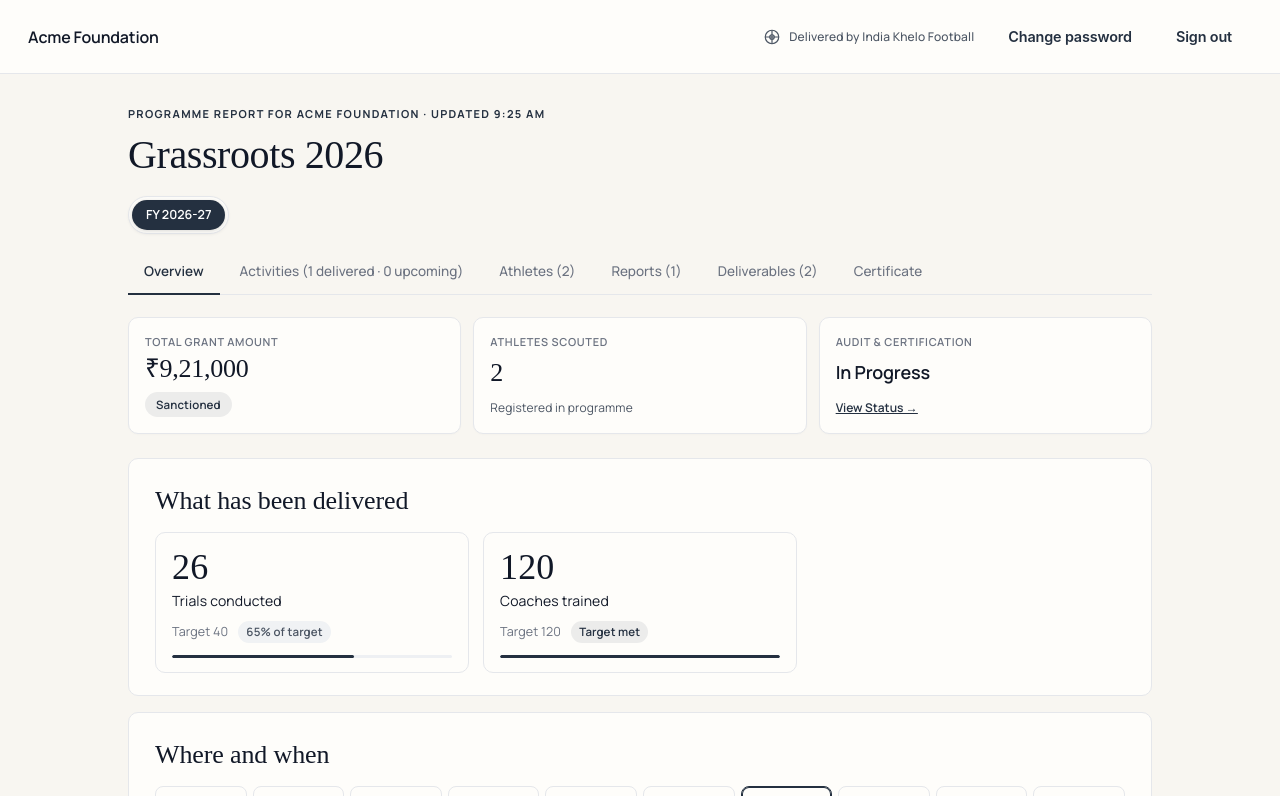
Test: the Athletes tab shows scouted beneficiaries and search works
Check: the heading "What has been delivered" is shown, box top-left (155, 486), bottom-right (408, 515)
Click the tab "Athletes (2)".
click(537, 272)  # box top-left (483, 250), bottom-right (592, 295)
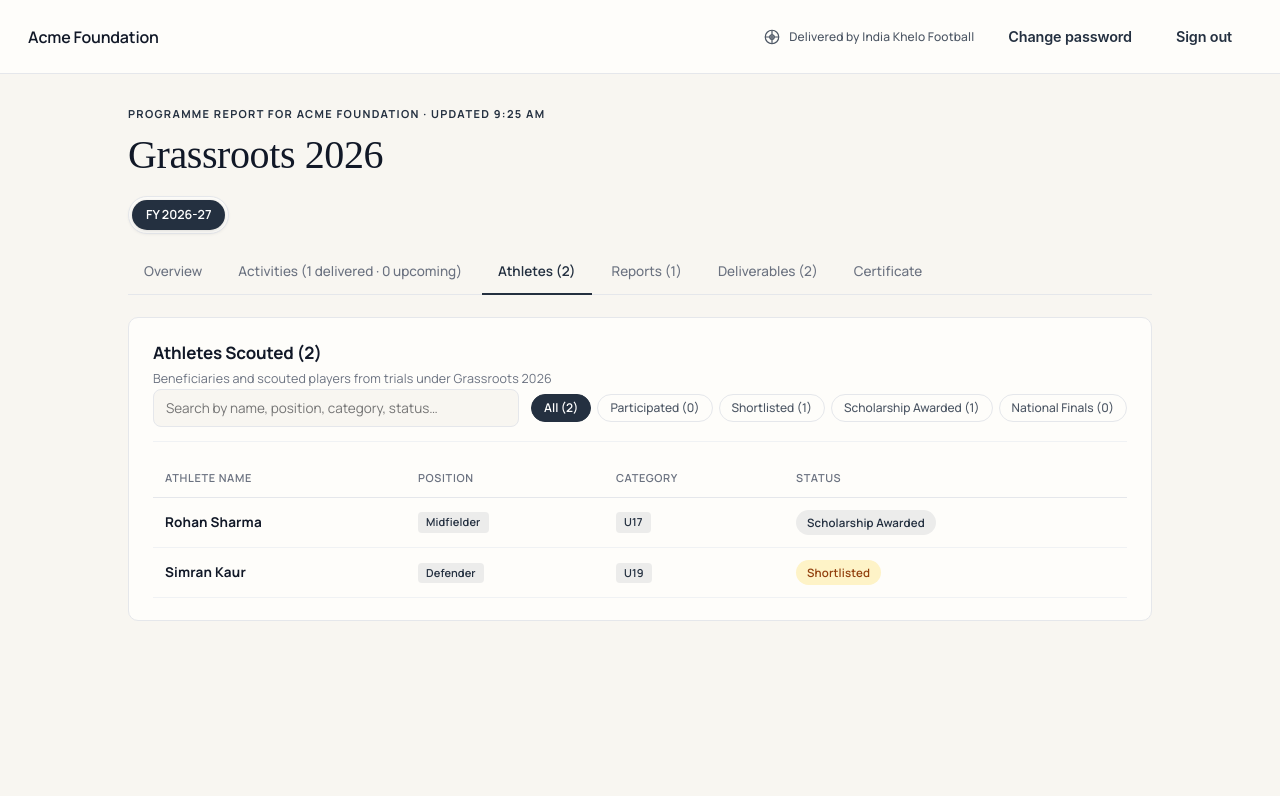
Check: the text "Rohan Sharma" is shown, box top-left (165, 513), bottom-right (262, 531)
Check: the text "Simran Kaur" is shown, box top-left (165, 563), bottom-right (246, 581)
Check: the text "Midfielder" is shown, box top-left (418, 512), bottom-right (488, 533)
// Test search
Type "Rohan" into the search field with placeholder "Search by name, position, category, status…".
click(336, 408); type("Rohan")  # box top-left (153, 389), bottom-right (519, 427)
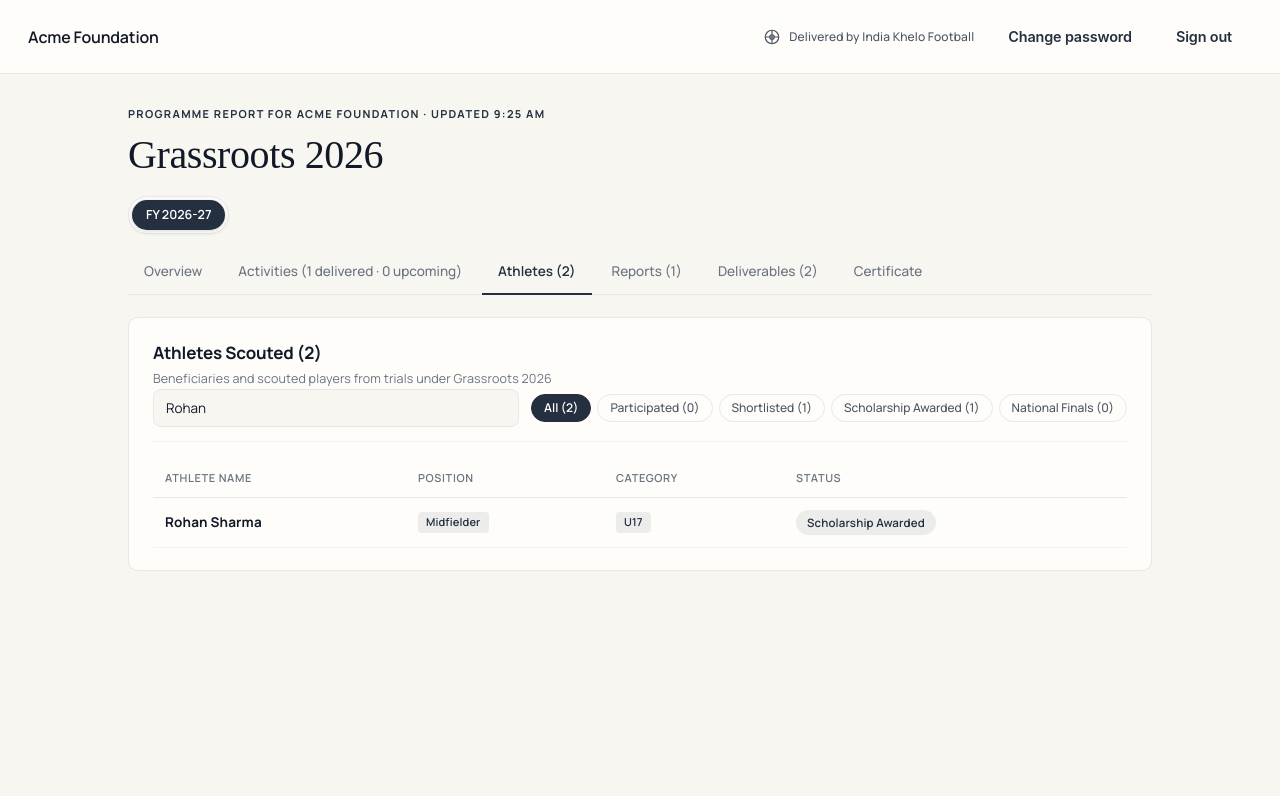
Check: the text "Rohan Sharma" is shown, box top-left (165, 513), bottom-right (262, 531)
Check: the text "Simran Kaur" is gone
